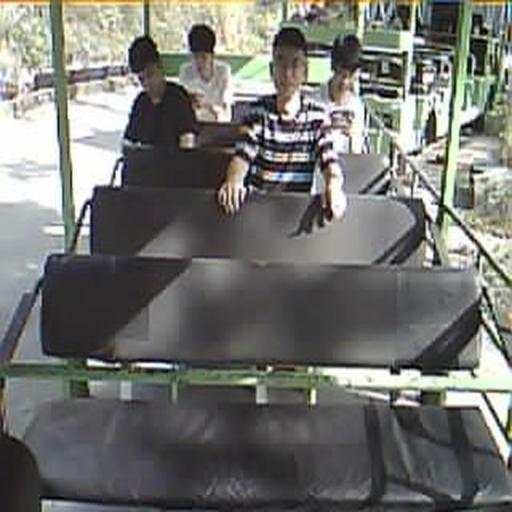persona: (216, 26, 348, 236), (119, 34, 201, 157), (317, 32, 371, 155), (178, 23, 233, 124)
